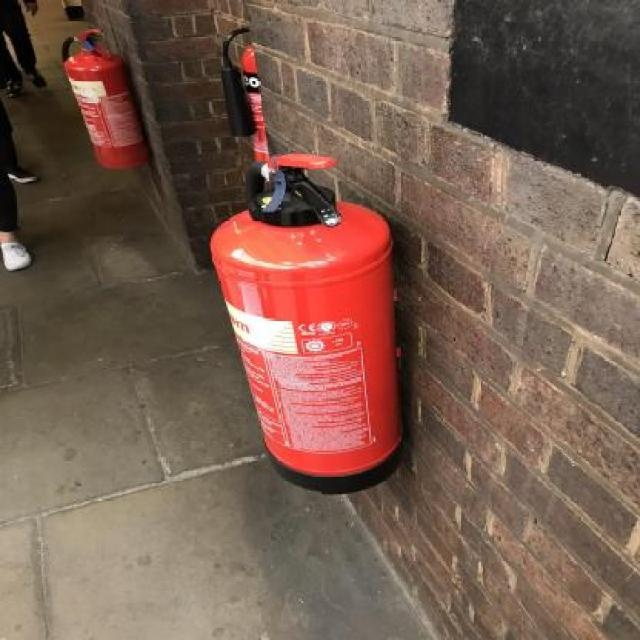fire extinguisher: (209, 150, 406, 495), (64, 22, 148, 178), (218, 25, 277, 168)
